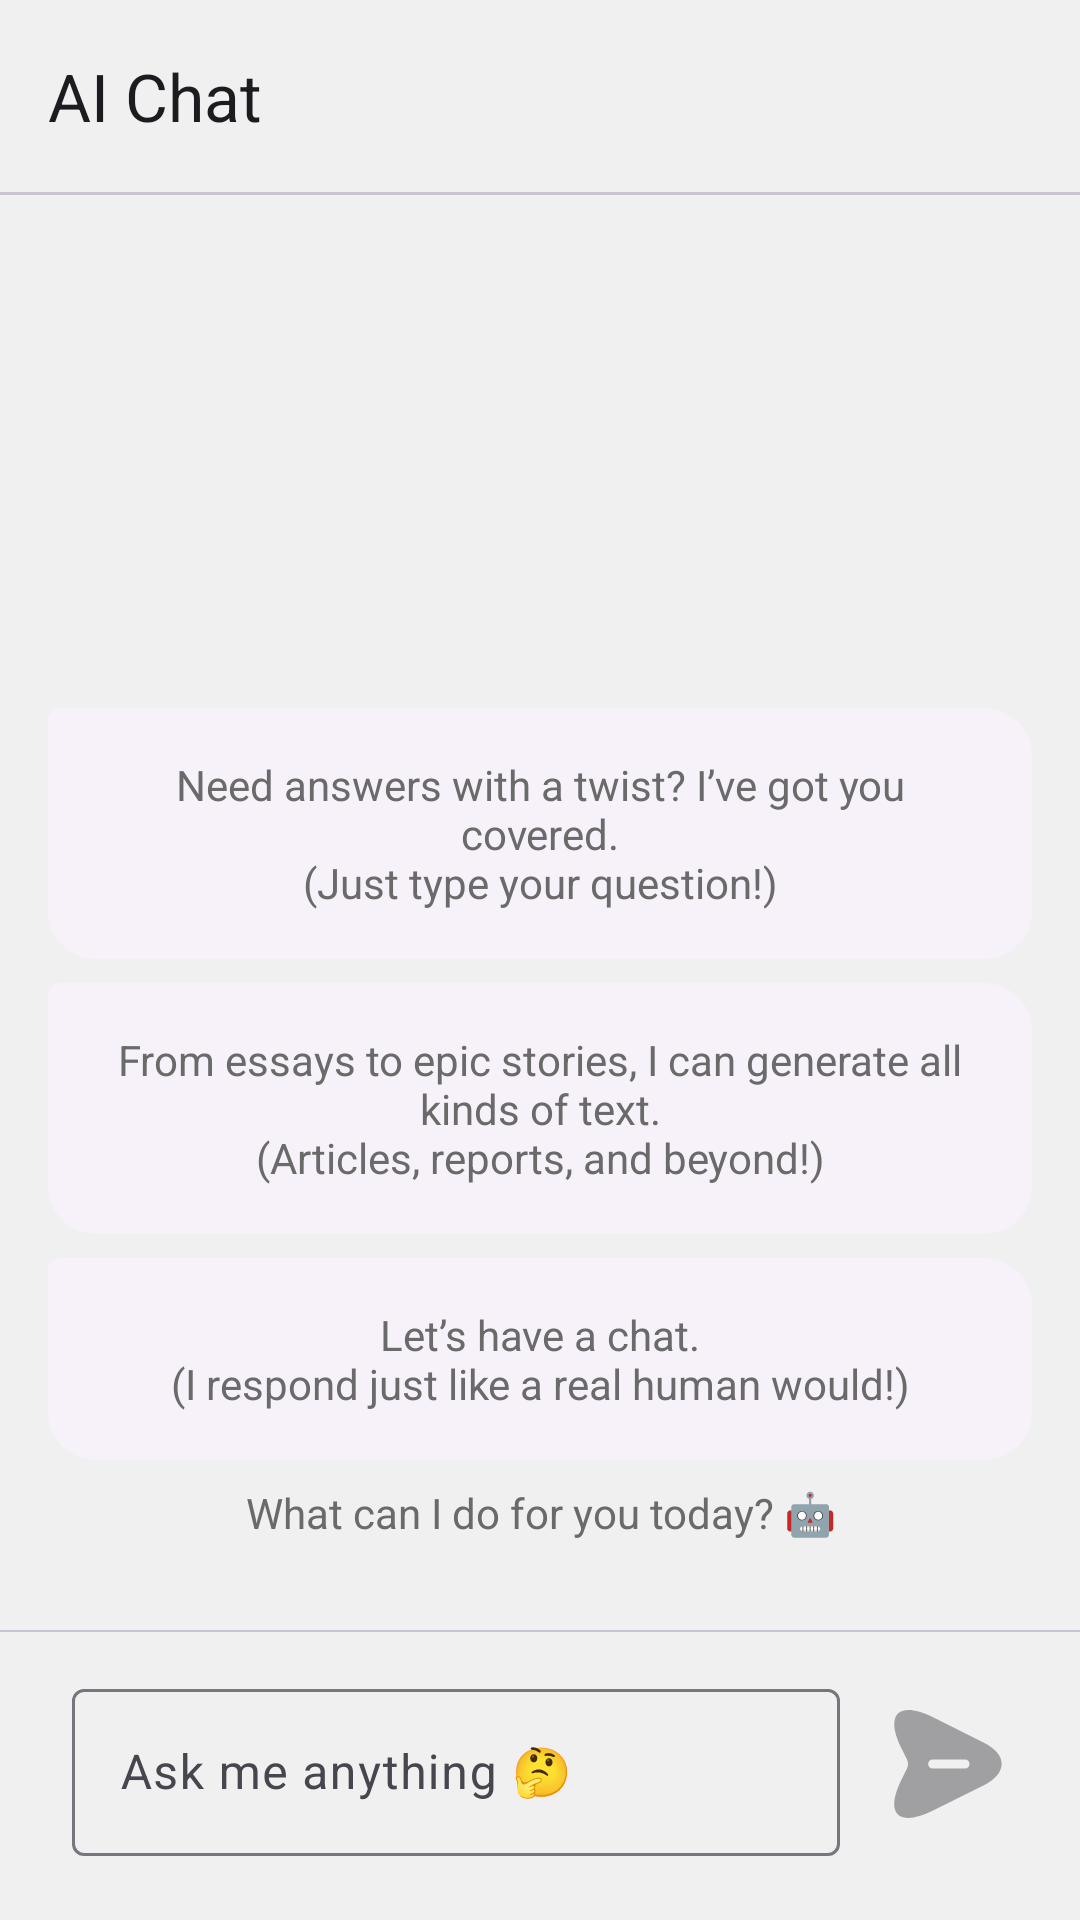

Screen size 1080*1920. Icon name, then its box in pixels as (x1, y1, x2, y2):
send: (894, 1710, 1002, 1818)
